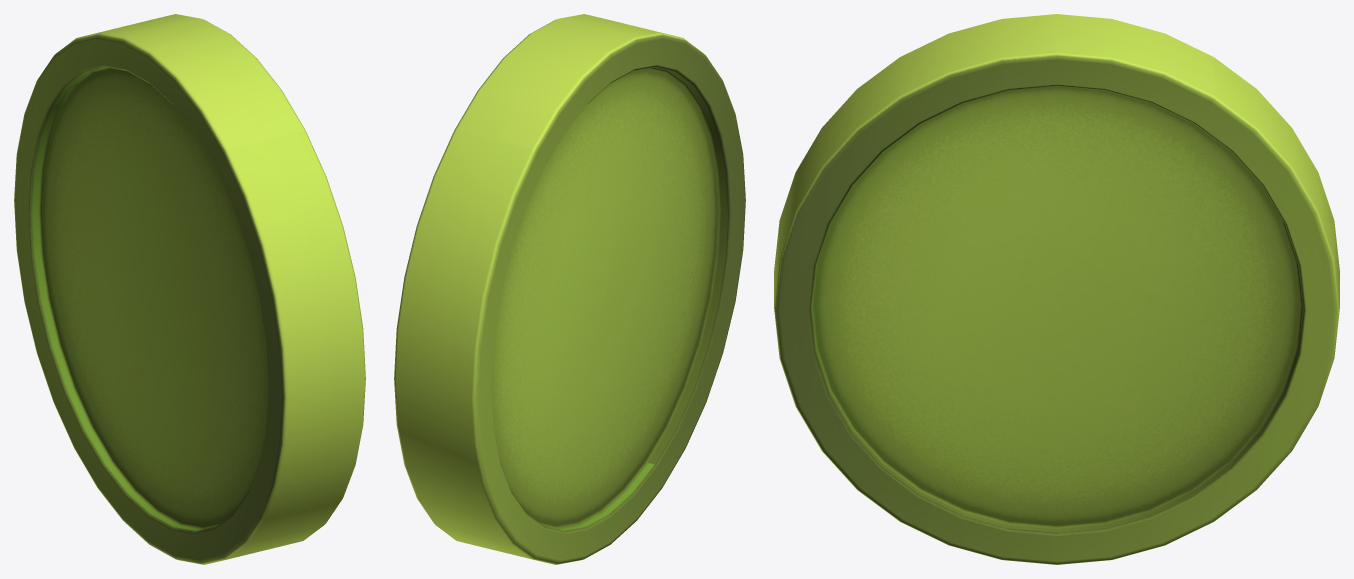
The model's file is coin05.fbx.
The picture shows the model from 3 angles, left to right: view 1: azimuth 30°, elevation 25°; view 2: azimuth 150°, elevation 25°; view 3: azimuth 270°, elevation 25°; orthographic projection. The views are drawn at different scales.
Parts seen in each view (by area): view 1: coin-lp.05; view 2: coin-lp.05; view 3: coin-lp.05.
Part boxes in pixels (x1=…): coin-lp.05: x1=14, y1=14, x2=365, y2=564; coin-lp.05: x1=394, y1=14, x2=745, y2=564; coin-lp.05: x1=774, y1=14, x2=1339, y2=564.
Bounding box in the file's own units: 0.0473 × 0.2673 × 0.2673.
1 material, 1 textured.
